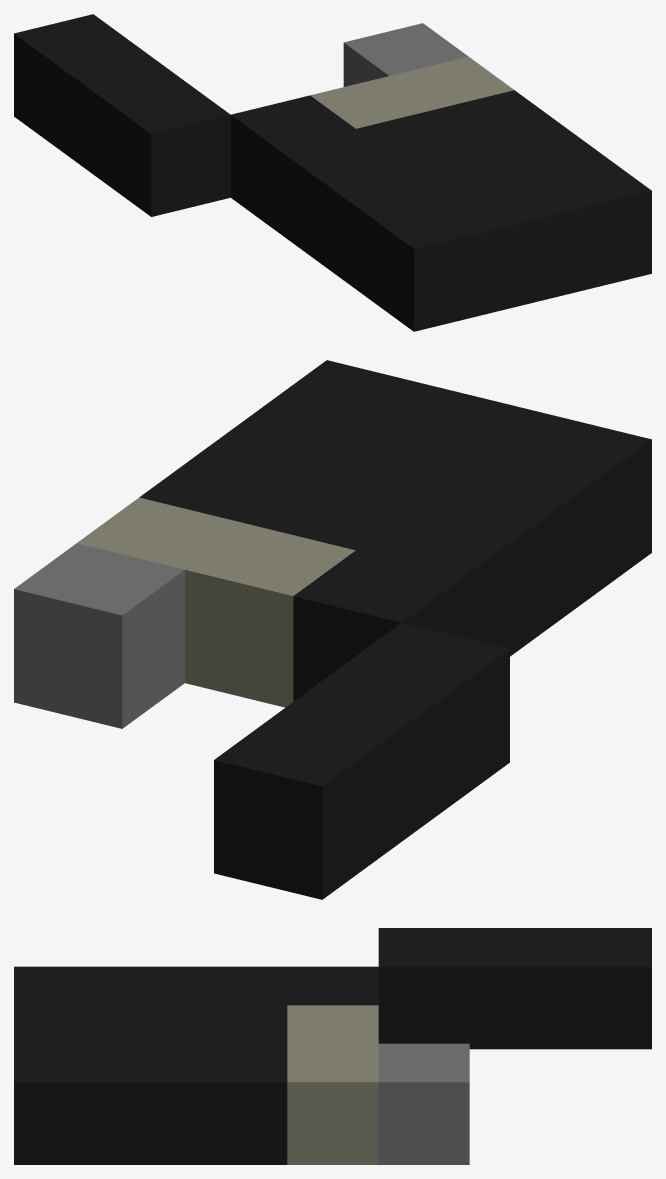
The model's file is Items-1.obj.
3 renders of one model, top to bottom at view 1: azimuth 30°, elevation 25°; view 2: azimuth 150°, elevation 25°; view 3: azimuth 270°, elevation 25°, orthographic. The views are drawn at different scales.
Bounding box in the file's own units: 0.4 × 0.1 × 0.7.
1 material, 1 textured.
